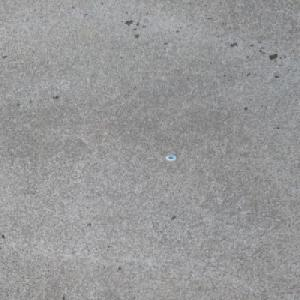Washer: (164, 154, 177, 161)
